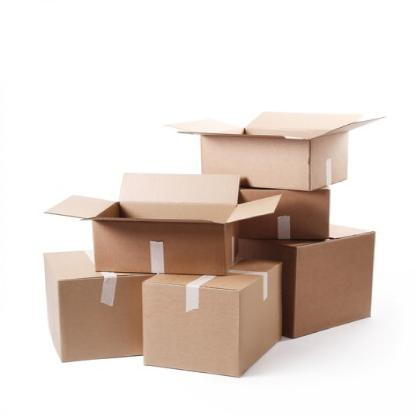box: (141, 282, 240, 376), (291, 231, 375, 336), (57, 274, 150, 362), (90, 218, 229, 276), (202, 136, 312, 192), (222, 189, 332, 241)
